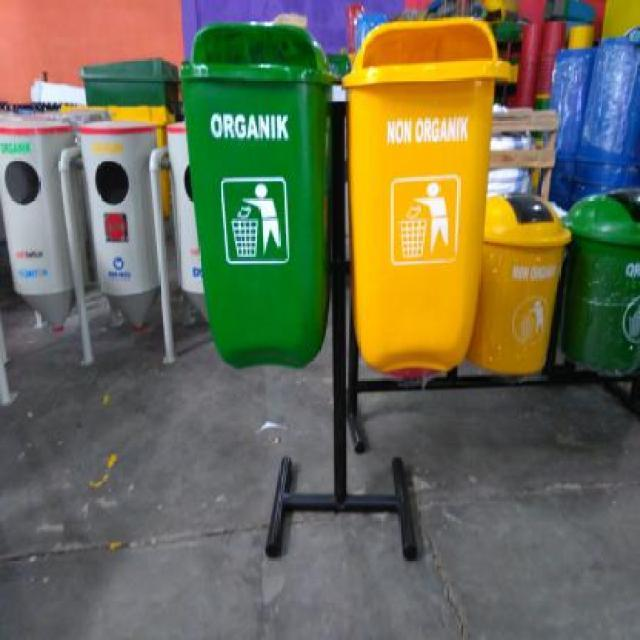garbage container: (173, 21, 338, 386), (342, 12, 495, 385), (473, 190, 579, 385), (564, 181, 640, 406)
